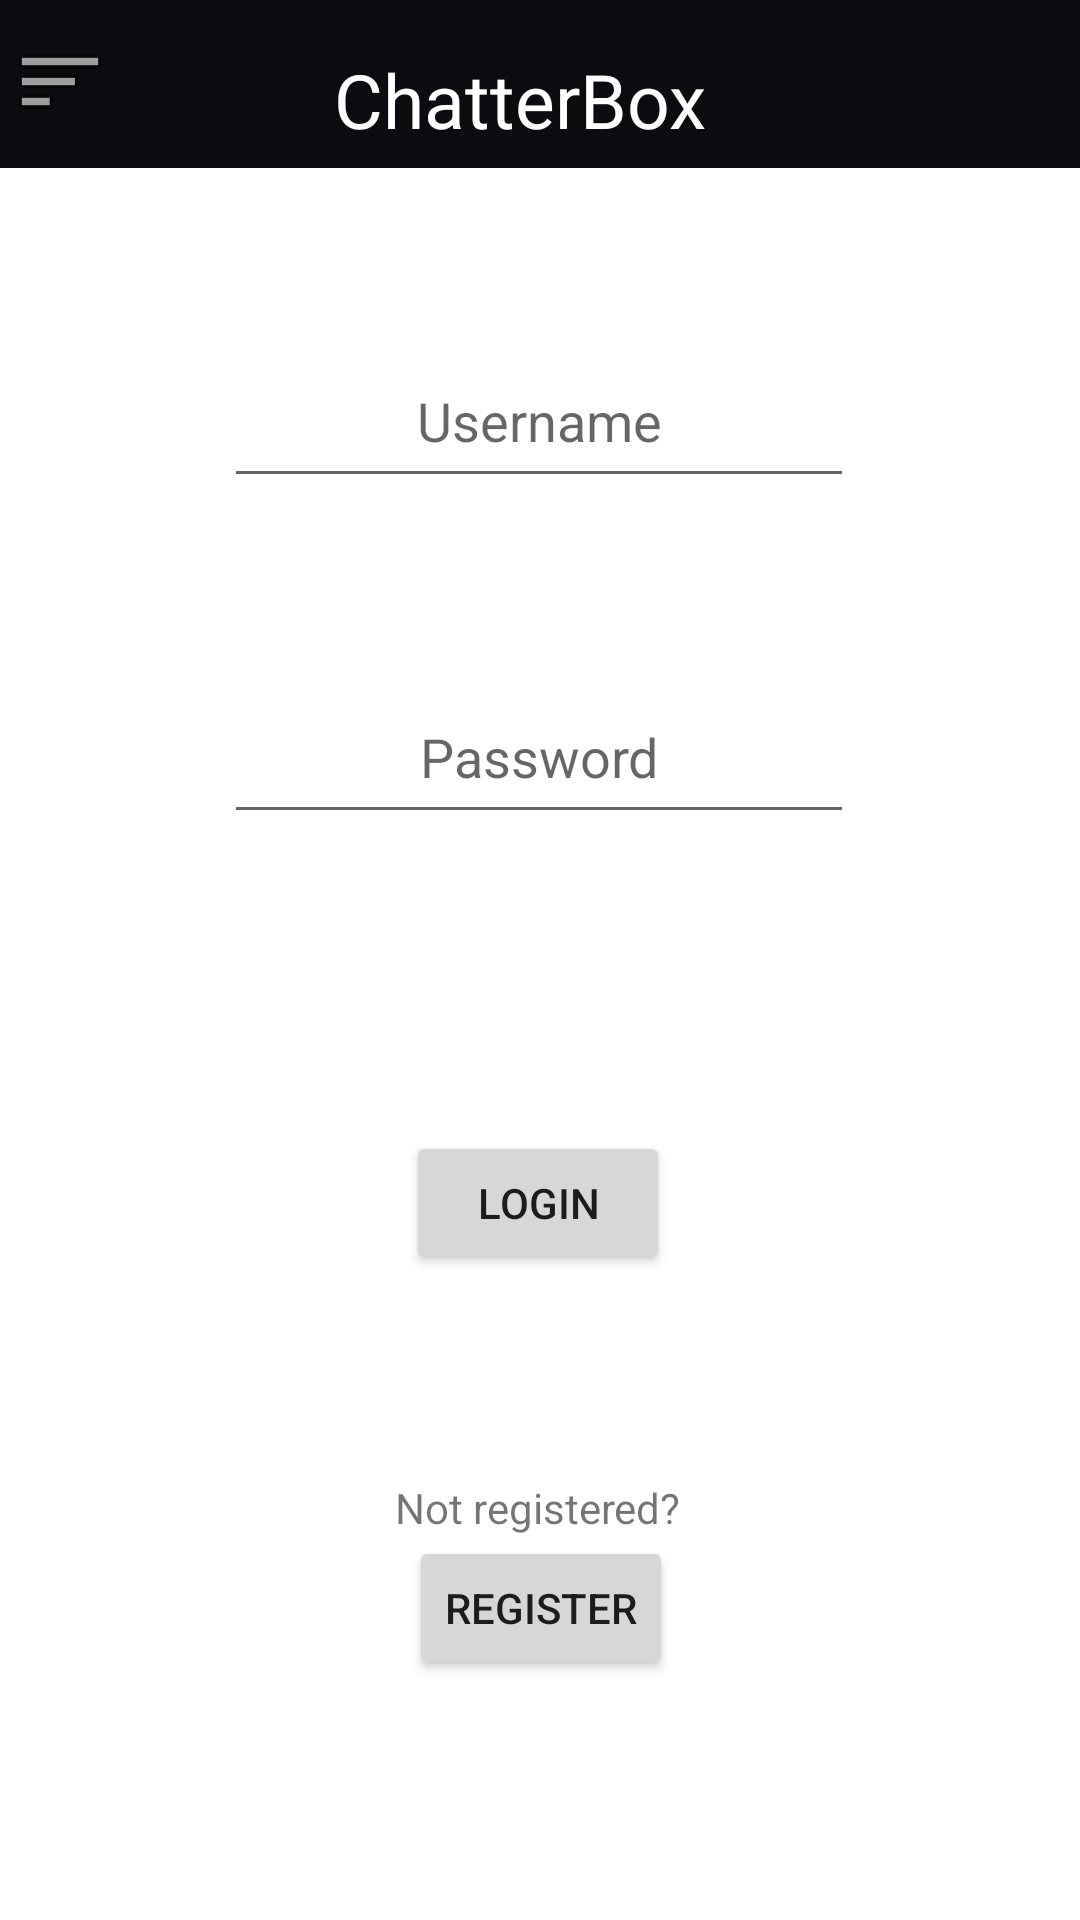

Icons on this 1080 × 1920 Android screen, each with its box as bbox=[x1, y1, x2, y2]:
sort by size: bbox=[22, 58, 98, 105]
